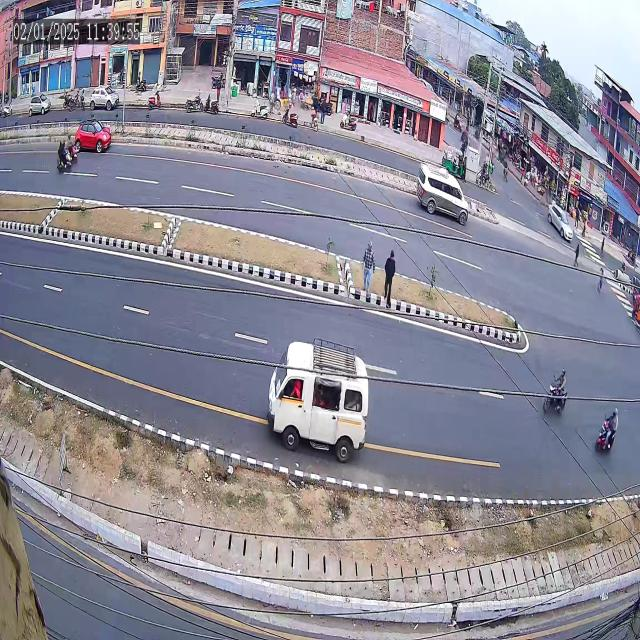car: (546, 188, 575, 256), (74, 108, 115, 153), (88, 78, 120, 116), (22, 89, 51, 125)
motorcycle: (537, 352, 571, 426), (592, 396, 625, 468)
van: (255, 315, 380, 481)
